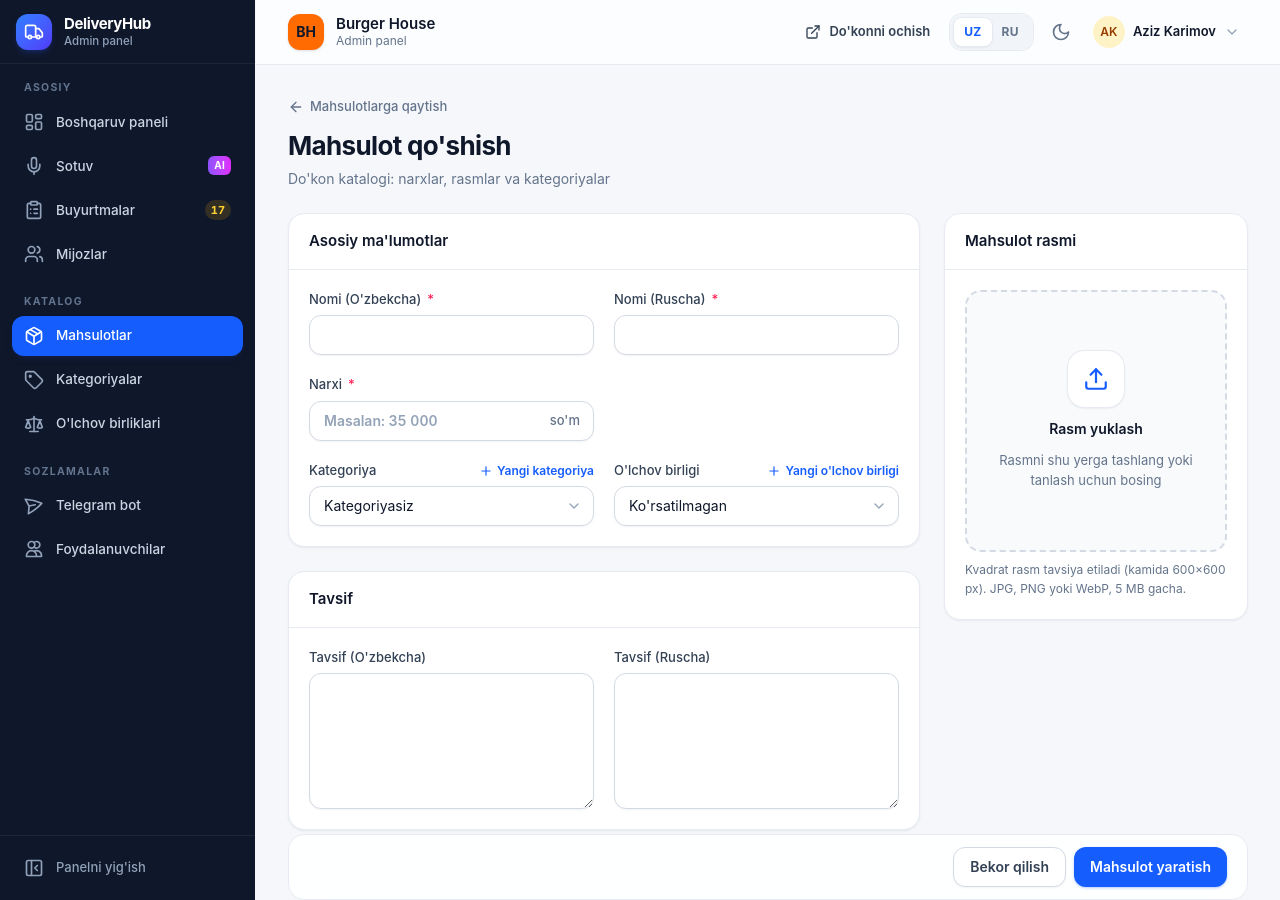
products › validates the form without sending a request
The width and height of the screenshot is (1280, 900).
Click the button "Mahsulot yaratish": (1150,867) [1074,847,1227,887]
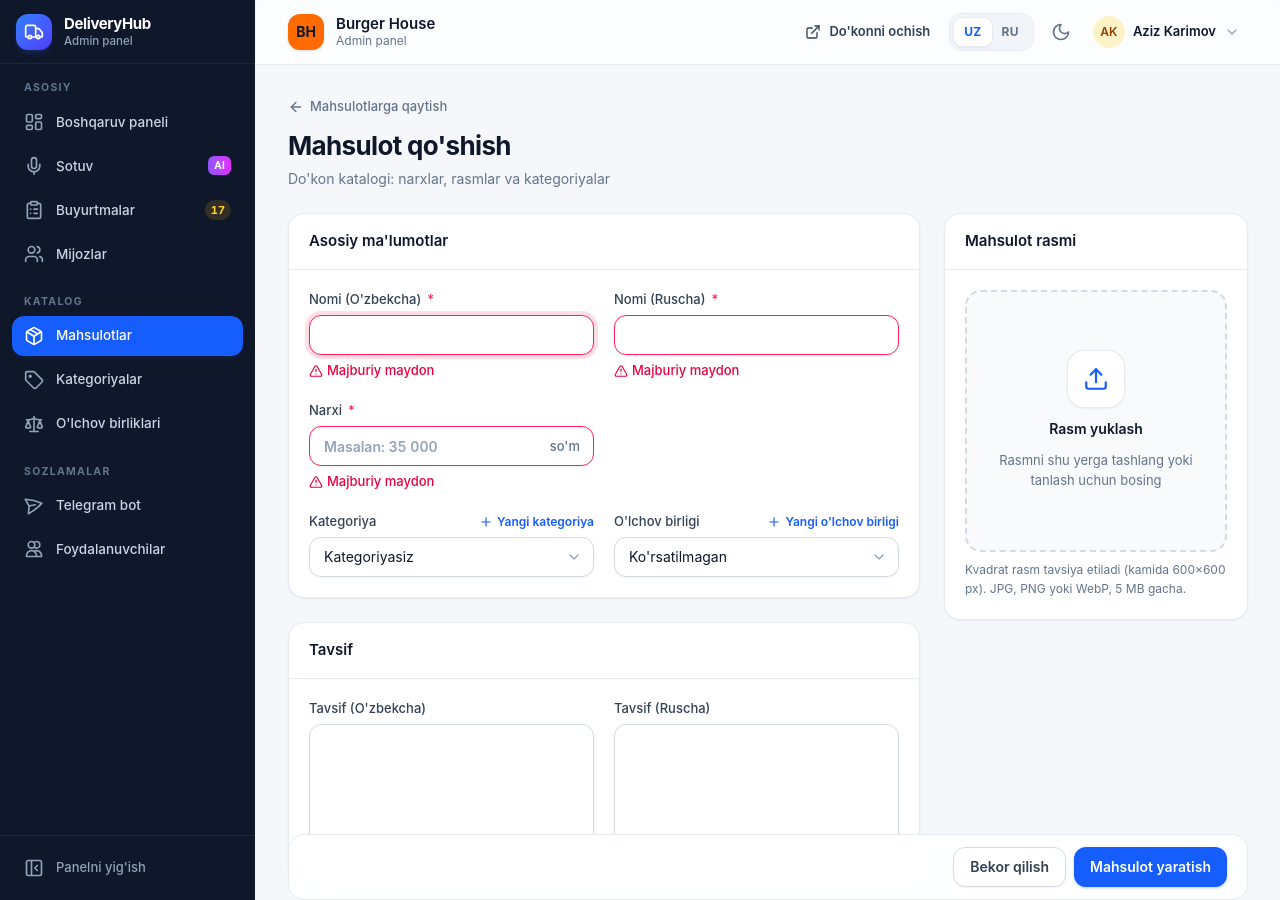
Now the text "Majburiy maydon" is shown 3 times, box [309,362,434,378]; [614,362,739,378]; [309,473,434,489]
